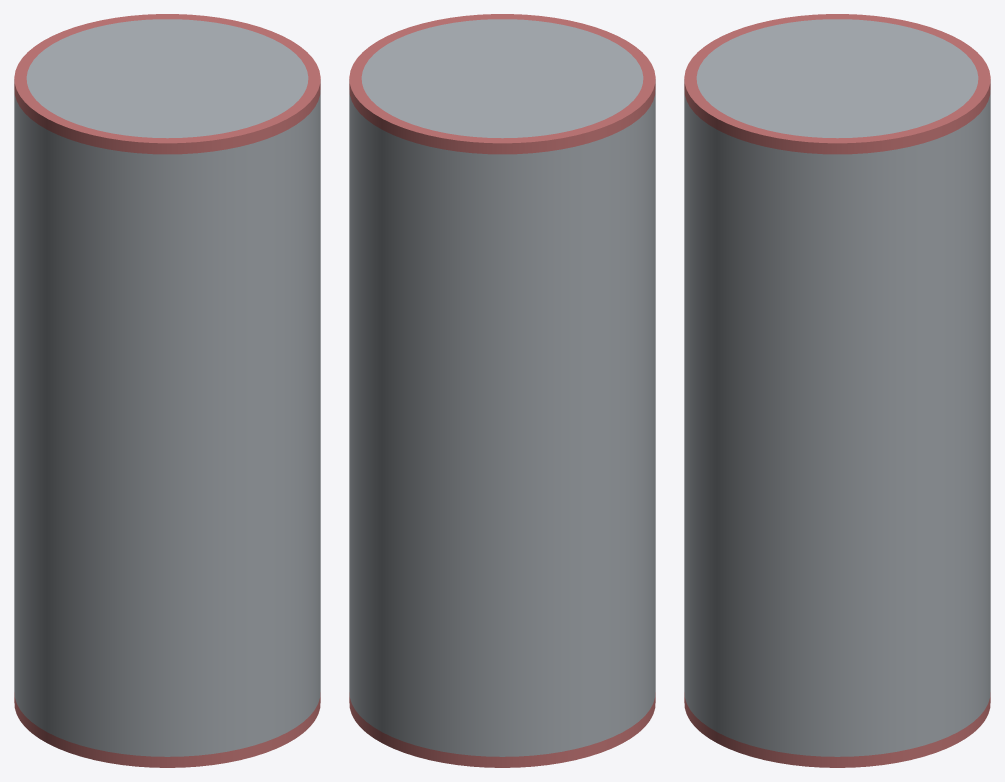
The model's file is step_05.glb.
3 renders of one model, left to right at view 1: azimuth 30°, elevation 25°; view 2: azimuth 150°, elevation 25°; view 3: azimuth 270°, elevation 25°, orthographic.
Visible parts, largest first — view 1: part__pin, removed__pin; view 2: part__pin, removed__pin; view 3: part__pin, removed__pin.
Boxes of the visible parts, x1,y1,x2,y2 form: part__pin: (14,19,320,756); removed__pin: (14,14,320,767); part__pin: (349,19,655,756); removed__pin: (349,14,655,767); part__pin: (684,19,990,756); removed__pin: (684,14,990,767).
Bounding box in the file's own units: 19.99 × 45 × 19.99.
